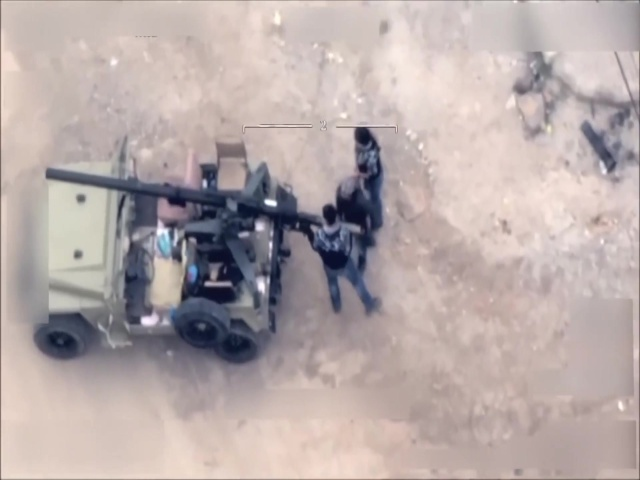person: (304, 200, 381, 326), (329, 170, 381, 272), (344, 118, 387, 238)
vehicle: (9, 155, 299, 356)
